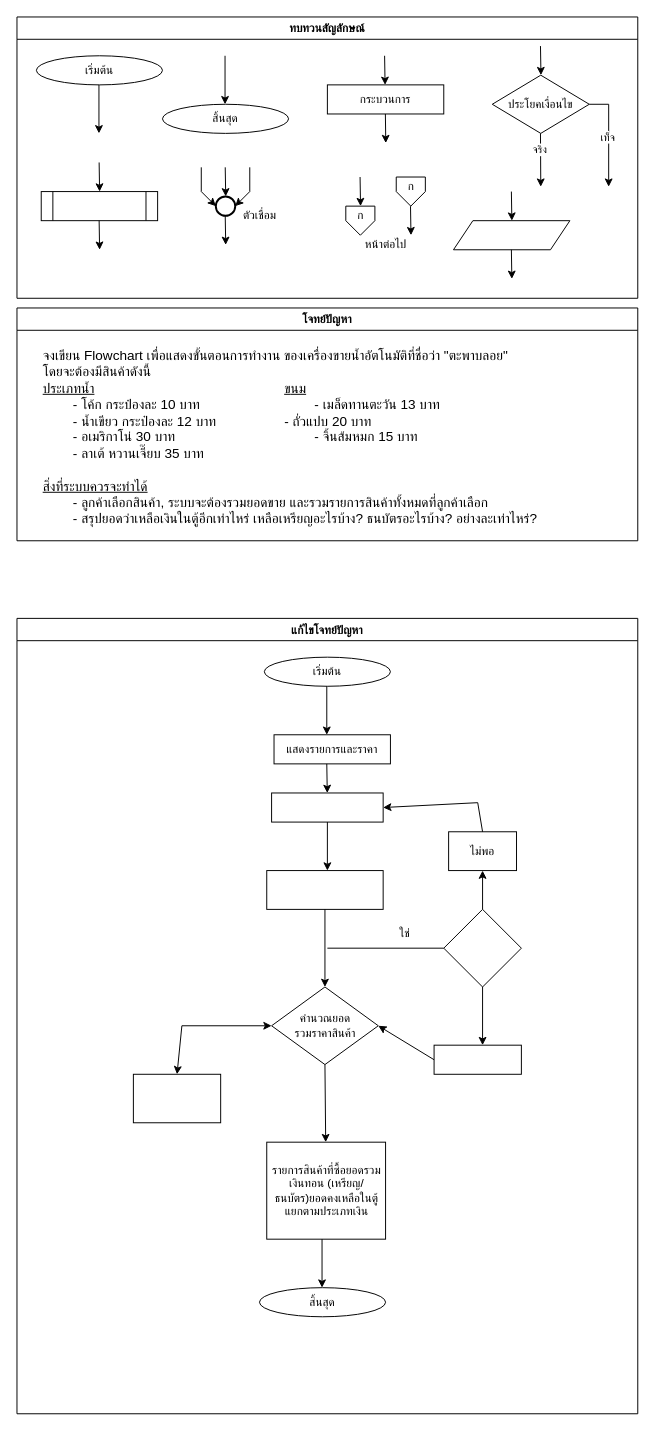
The diagram is 655 pixels wide and 1431 high, and some of its shapes have lost their labels. Each missing label, with the centre of its shape:
"ฟังก์ชัน/โมดูล" belongs at pixel 99 206.
"มีเพียงพอ" belongs at pixel 477 1059.
"ลูกค้าเลือกสินค้าได้หลายชิ้น" belongs at pixel 324 889.
"ลูกค้าใส่เงิน (เหรียญ/บัตร)" belongs at pixel 327 807.
"หักยอดเงิน + จ่ายสินค้า" belongs at pixel 176 1098.
"เงินลูกค้าเพียงพอหรือไม่" belongs at pixel 482 947.
"แสดงผล/รับค่า" belongs at pixel 511 235.
